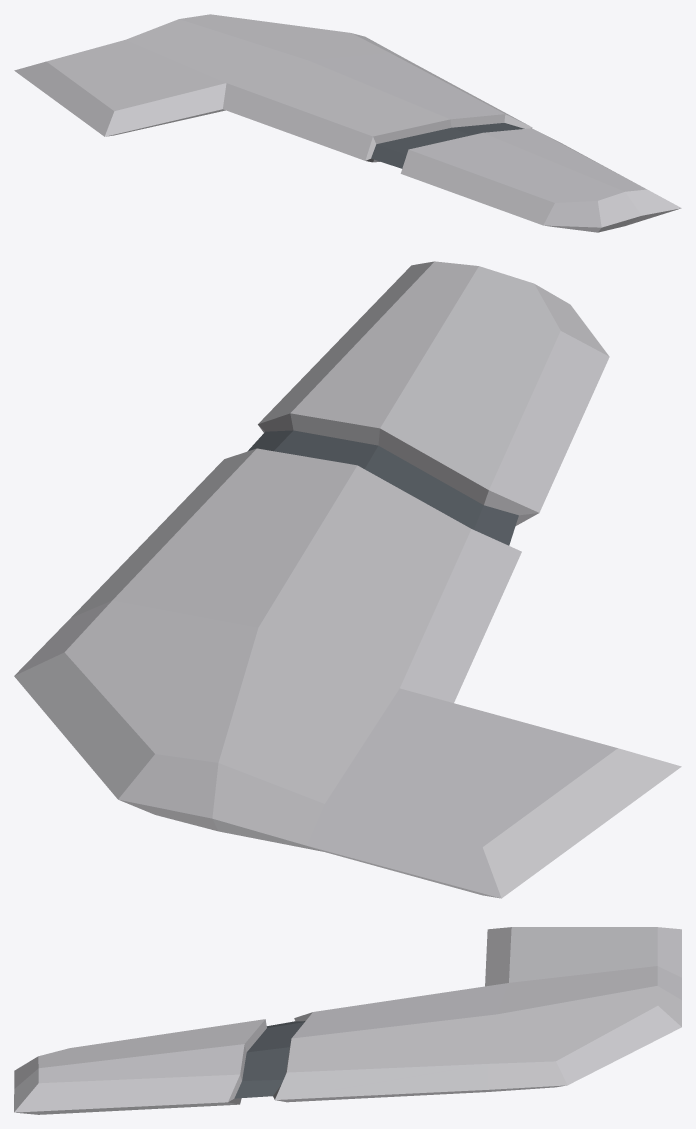
File: Fighter_01_Wings_Left.fbx
3 views of the same model, one above another, from view 1: azimuth 30°, elevation 25°; view 2: azimuth 150°, elevation 25°; view 3: azimuth 270°, elevation 25° (orthographic). The views are drawn at different scales.
Parts seen in each view (by area): view 1: Fighter_01_Wings_Left; view 2: Fighter_01_Wings_Left; view 3: Fighter_01_Wings_Left.
Part boxes in pixels (box(x1,y1,x2,y2)): Fighter_01_Wings_Left: box(14, 14, 681, 232); Fighter_01_Wings_Left: box(14, 261, 681, 898); Fighter_01_Wings_Left: box(14, 927, 681, 1114).
Bounding box in the file's own units: 319 × 30.13 × 482.
1 material, 1 textured.
